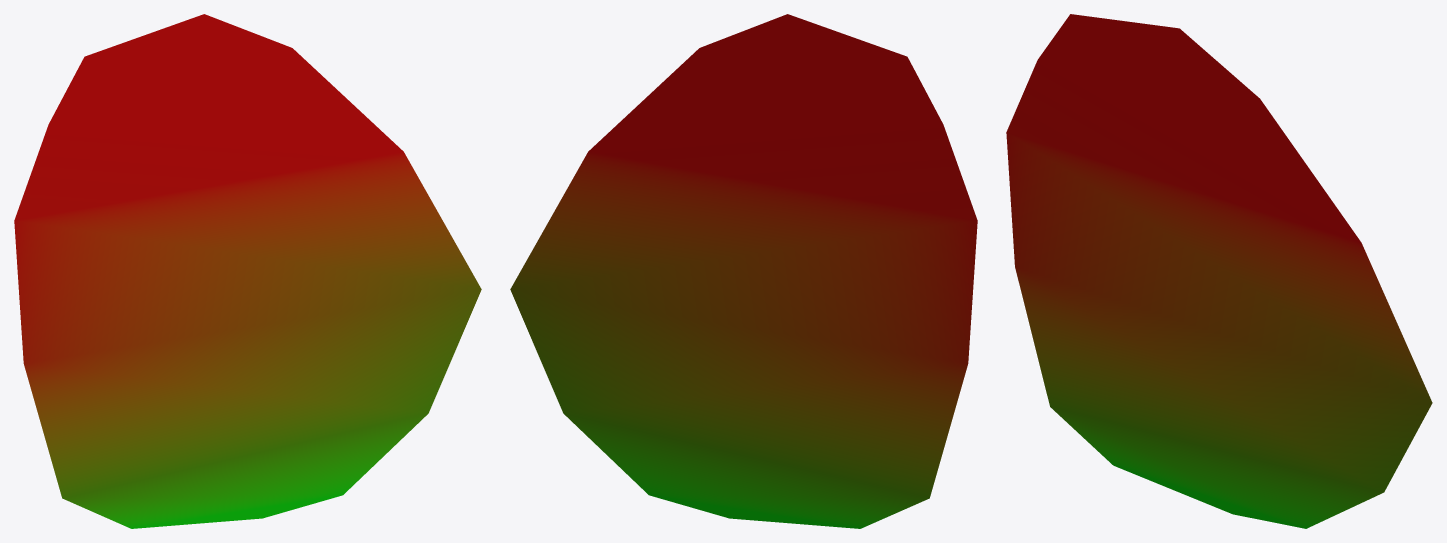
The model's file is Var11_LOD6.fbx.
3 renders of one model, left to right at view 1: azimuth 30°, elevation 25°; view 2: azimuth 150°, elevation 25°; view 3: azimuth 330°, elevation 25°, orthographic. The views are drawn at different scales.
Parts seen in each view (by area): view 1: _txm4_Var11_LOD6; view 2: _txm4_Var11_LOD6; view 3: _txm4_Var11_LOD6.
Boxes of the visible parts, <box> form: _txm4_Var11_LOD6: <box>14,14,481,528</box>; _txm4_Var11_LOD6: <box>510,14,977,528</box>; _txm4_Var11_LOD6: <box>1006,14,1432,528</box>.
Bounding box in the file's own units: 116 × 123 × 9.29e-06.
